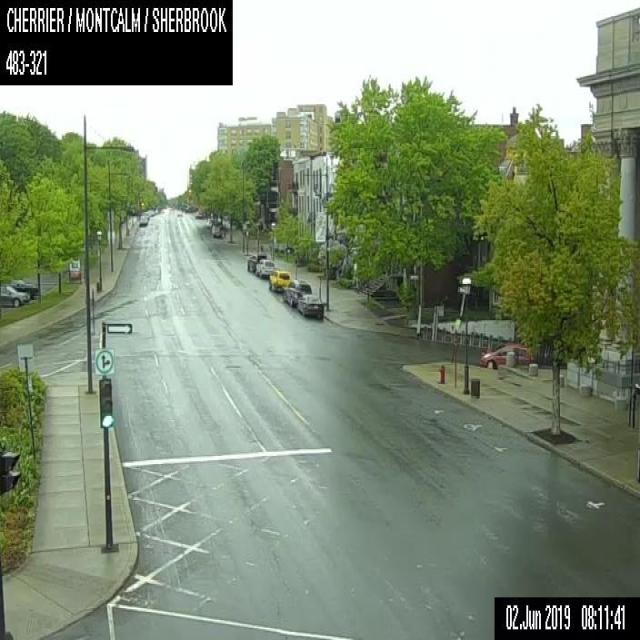vehicle: (477, 341, 538, 367), (283, 278, 311, 306), (297, 293, 323, 318), (0, 284, 28, 307), (268, 268, 290, 291), (9, 280, 37, 297), (255, 258, 275, 277), (247, 253, 266, 270), (210, 224, 222, 238), (138, 215, 146, 225), (195, 209, 202, 218), (142, 210, 148, 219), (147, 209, 153, 215)
